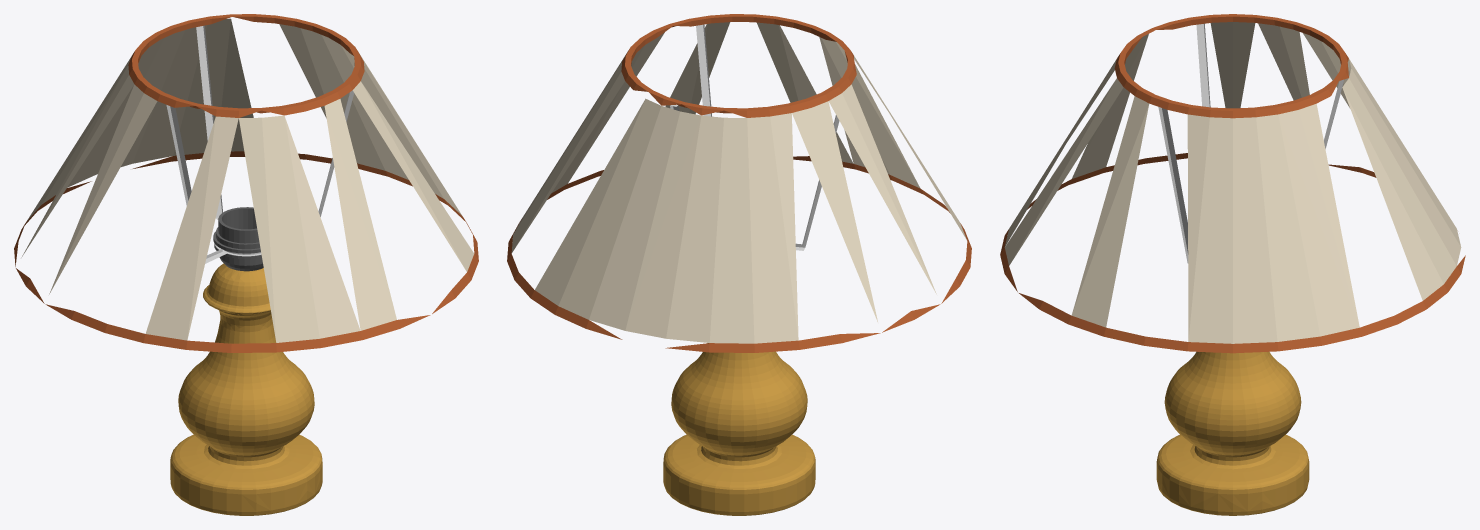
File: sh-scopia-little-lamp1.glb
3 views of the same model, side by side, from view 1: azimuth 30°, elevation 25°; view 2: azimuth 150°, elevation 25°; view 3: azimuth 270°, elevation 25° (orthographic).
Visible parts, largest first — view 1: lamp2_Circle.002_squares_multilamps.jpg, lamp2_sub_Circle.003, lamp2_Circle.002_border_multilamps.jpg, lamp2_Circle.002_whitesop, lamp2_Circle.002_plastic; view 2: lamp2_Circle.002_squares_multilamps.jpg, lamp2_sub_Circle.003, lamp2_Circle.002_border_multilamps.jpg, lamp2_Circle.002_whitesop; view 3: lamp2_Circle.002_squares_multilamps.jpg, lamp2_sub_Circle.003, lamp2_Circle.002_border_multilamps.jpg, lamp2_Circle.002_whitesop.
Boxes of the visible parts, x1,y1,x2,y2 form: lamp2_Circle.002_squares_multilamps.jpg: [21, 18, 474, 342]; lamp2_sub_Circle.003: [170, 263, 322, 515]; lamp2_Circle.002_border_multilamps.jpg: [14, 14, 478, 352]; lamp2_Circle.002_whitesop: [166, 25, 354, 263]; lamp2_Circle.002_plastic: [213, 207, 263, 271]; lamp2_Circle.002_squares_multilamps.jpg: [511, 22, 966, 343]; lamp2_sub_Circle.003: [663, 343, 815, 515]; lamp2_Circle.002_border_multilamps.jpg: [507, 14, 971, 352]; lamp2_Circle.002_whitesop: [670, 24, 839, 250]; lamp2_Circle.002_squares_multilamps.jpg: [1004, 22, 1461, 343]; lamp2_sub_Circle.003: [1156, 351, 1309, 515]; lamp2_Circle.002_border_multilamps.jpg: [1000, 14, 1465, 353]; lamp2_Circle.002_whitesop: [1158, 23, 1344, 263].
Bounding box in the file's own units: 1 × 1 × 1.
